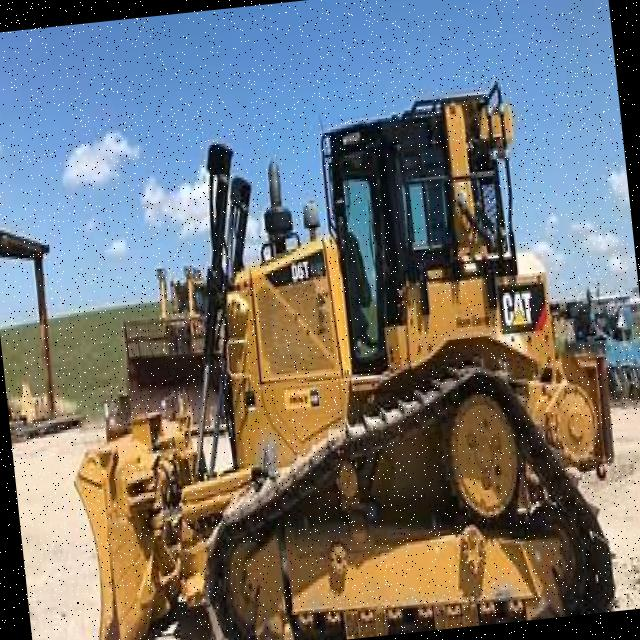Bulldozer: (24, 51, 631, 640)
